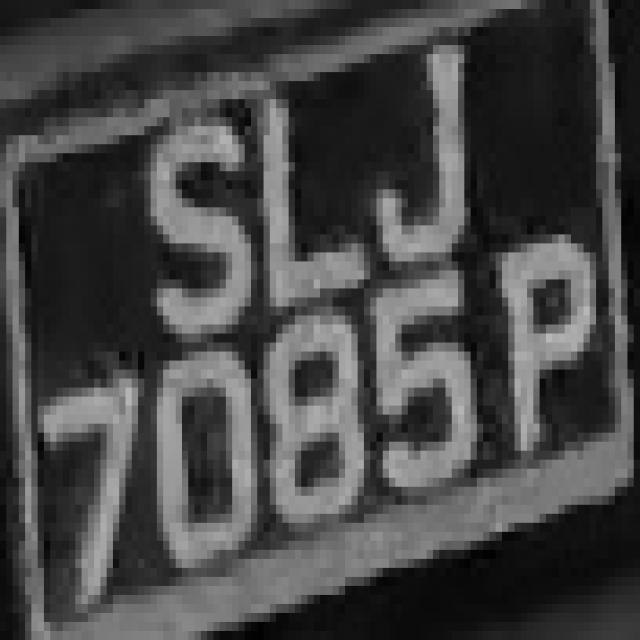0: (132, 324, 257, 586)
5: (358, 252, 483, 505)
7: (19, 361, 144, 613)
8: (245, 279, 370, 532)
J: (352, 27, 484, 279)
L: (238, 63, 364, 325)
P: (483, 216, 596, 478)
S: (132, 81, 245, 343)
